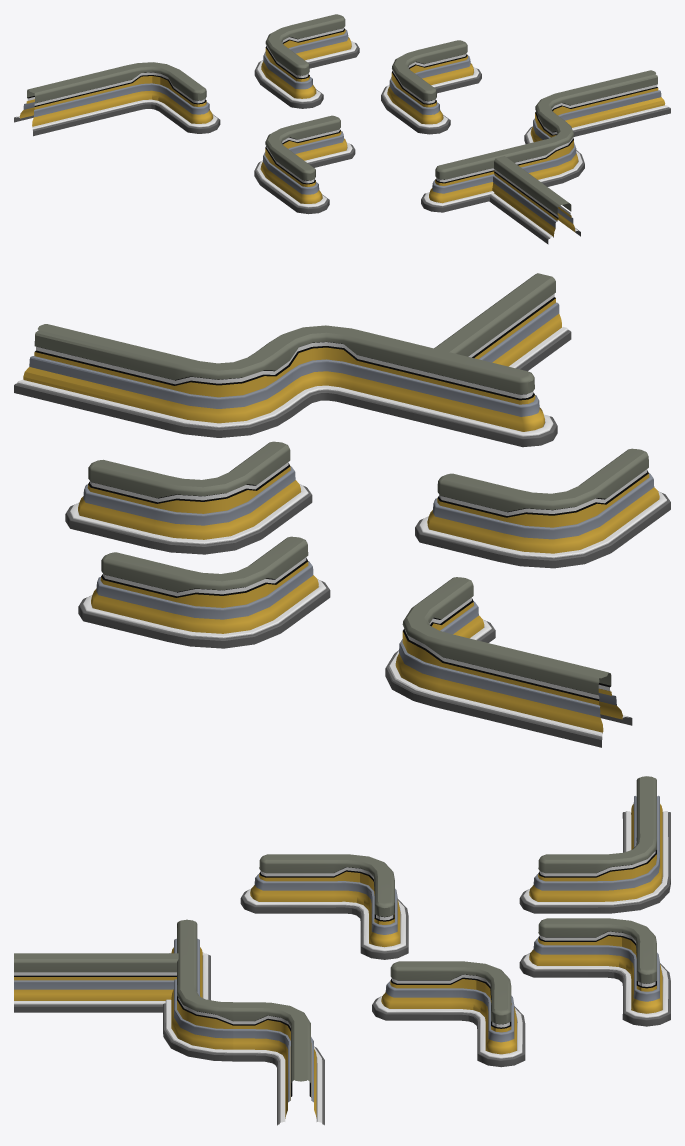
The model's file is Level21_Small_walls.fbx.
3 views of the same model, one above another, from view 1: azimuth 30°, elevation 25°; view 2: azimuth 150°, elevation 25°; view 3: azimuth 270°, elevation 25° (orthographic). The views are drawn at different scales.
Visible parts, largest first — view 1: Small_wall_L50, Small_wall_L27, Small_wall_L29, Small_wall_L28, Small_wall_L30, Small_wall_L60; view 2: Small_wall_L50, Small_wall_L27, Small_wall_L29, Small_wall_L28, Small_wall_L30, Small_wall_L60; view 3: Small_wall_L50, Small_wall_L27, Small_wall_L29, Small_wall_L30, Small_wall_L28, Small_wall_L60.
Part boxes in pixels (x1,y1,x2,y2): Small_wall_L50: (421, 70, 670, 212); Small_wall_L27: (14, 62, 220, 136); Small_wall_L29: (254, 115, 355, 214); Small_wall_L28: (254, 14, 359, 108); Small_wall_L30: (381, 40, 481, 134); Small_wall_L60: (489, 156, 580, 244); Small_wall_L50: (14, 324, 557, 447); Small_wall_L27: (385, 577, 632, 747); Small_wall_L29: (415, 448, 670, 568); Small_wall_L28: (78, 536, 330, 648); Small_wall_L30: (65, 441, 312, 554); Small_wall_L60: (434, 273, 571, 371); Small_wall_L50: (163, 919, 324, 1125); Small_wall_L27: (519, 776, 670, 913); Small_wall_L29: (240, 854, 408, 959); Small_wall_L30: (372, 961, 525, 1067); Small_wall_L28: (519, 918, 670, 1026); Small_wall_L60: (14, 953, 178, 1012).
Size of the model in its own units: 530 by 37.82 by 471.
